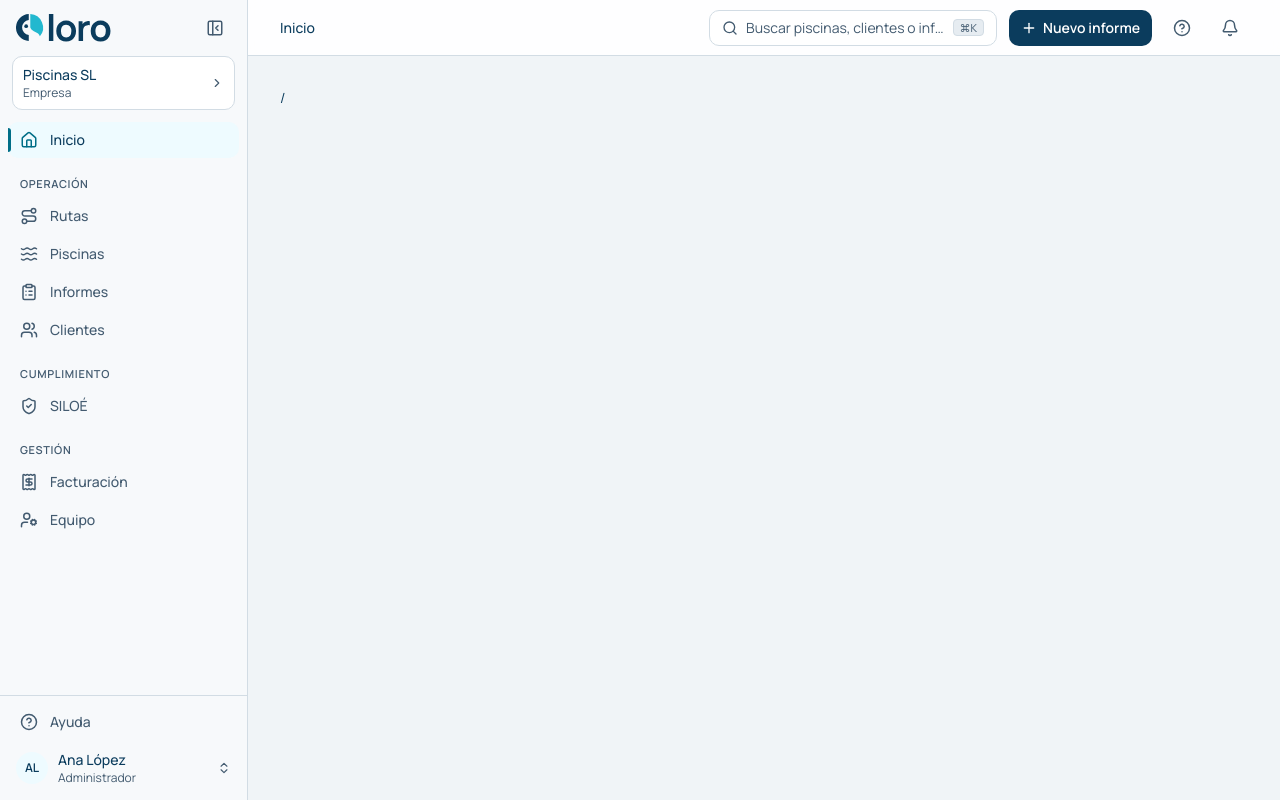
Test: AppShell command palette › opens with ⌘K, filters accent-insensitively, and navigates on Enter
Press k
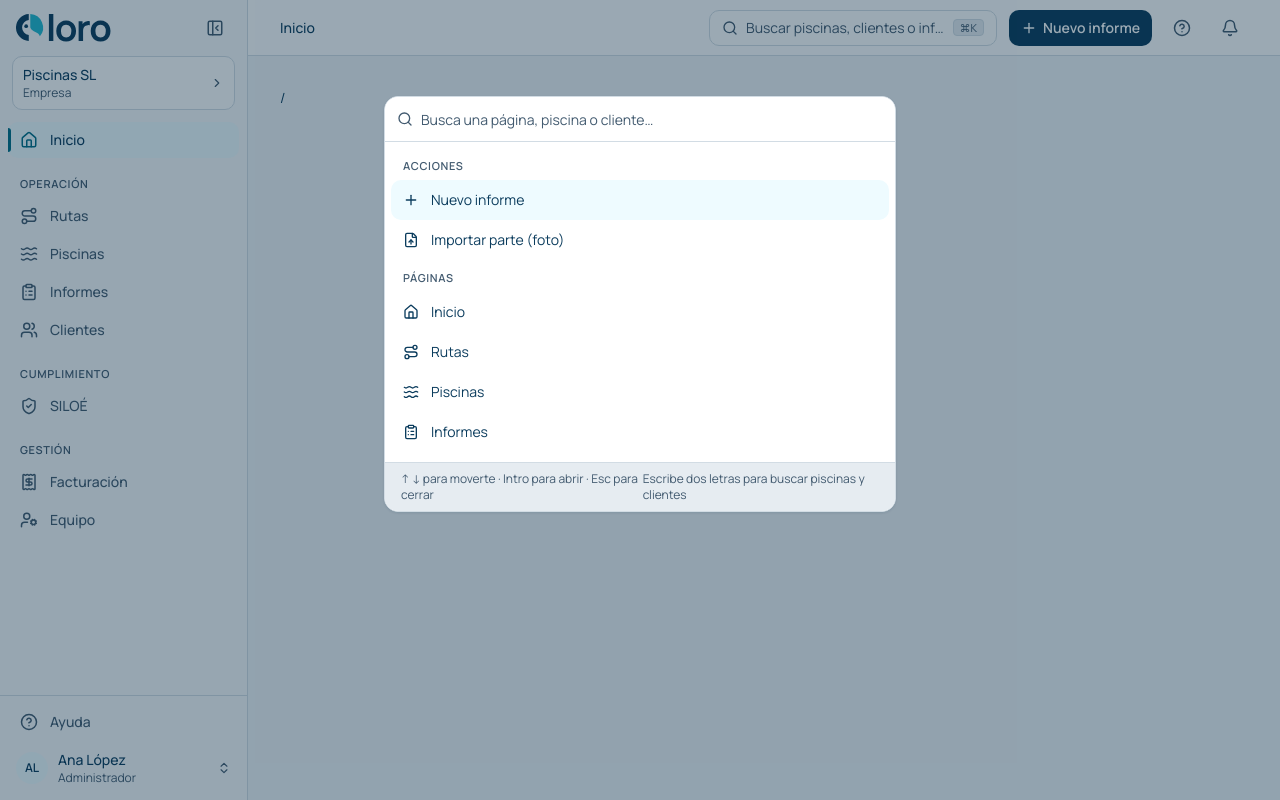
In the dropdown named "Ir a una página": [652, 119] box [421, 97, 883, 141], type "facturacion"
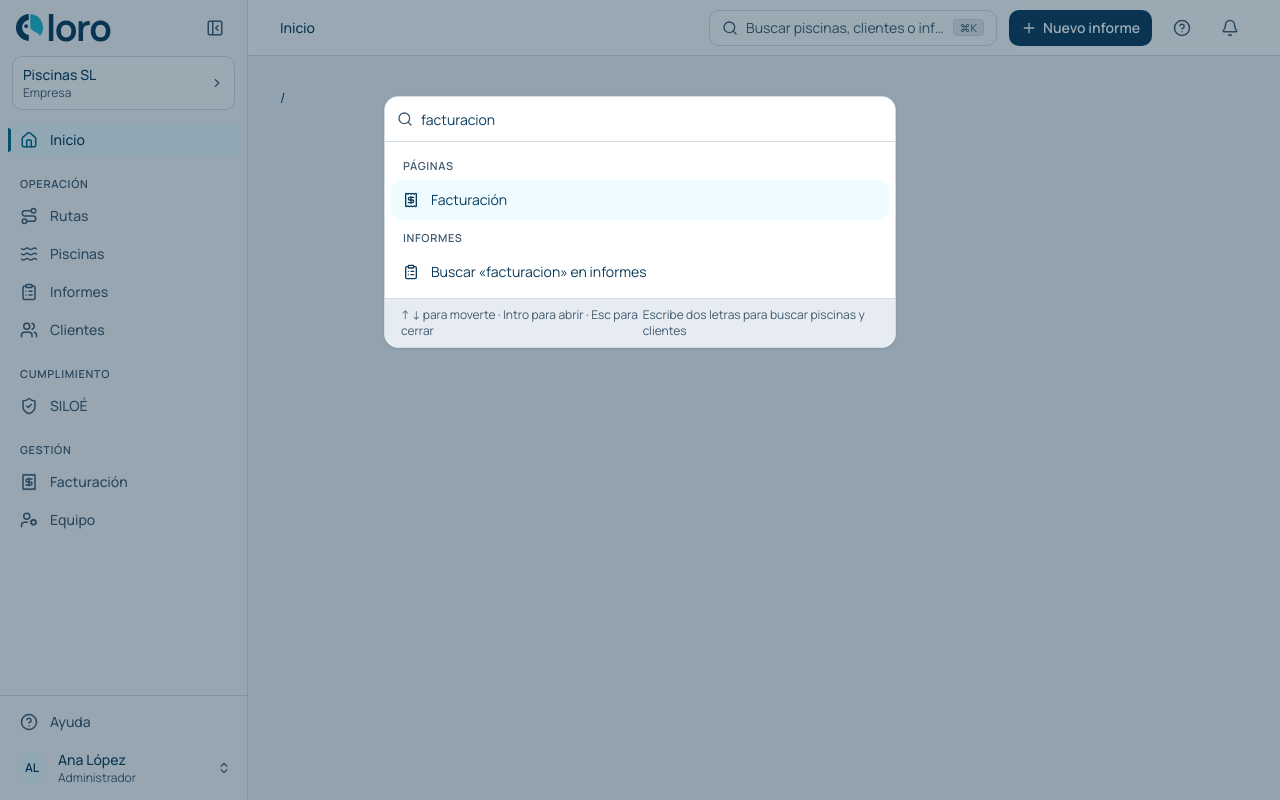
Expected: the text "Facturación" below "Gestión" is shown, [50, 472, 128, 491]
Expected: the text "Buscar «facturacion» en informes" is shown, [431, 262, 647, 281]
Press Enter in the dropdown named "Ir a una página", box [421, 97, 883, 141]
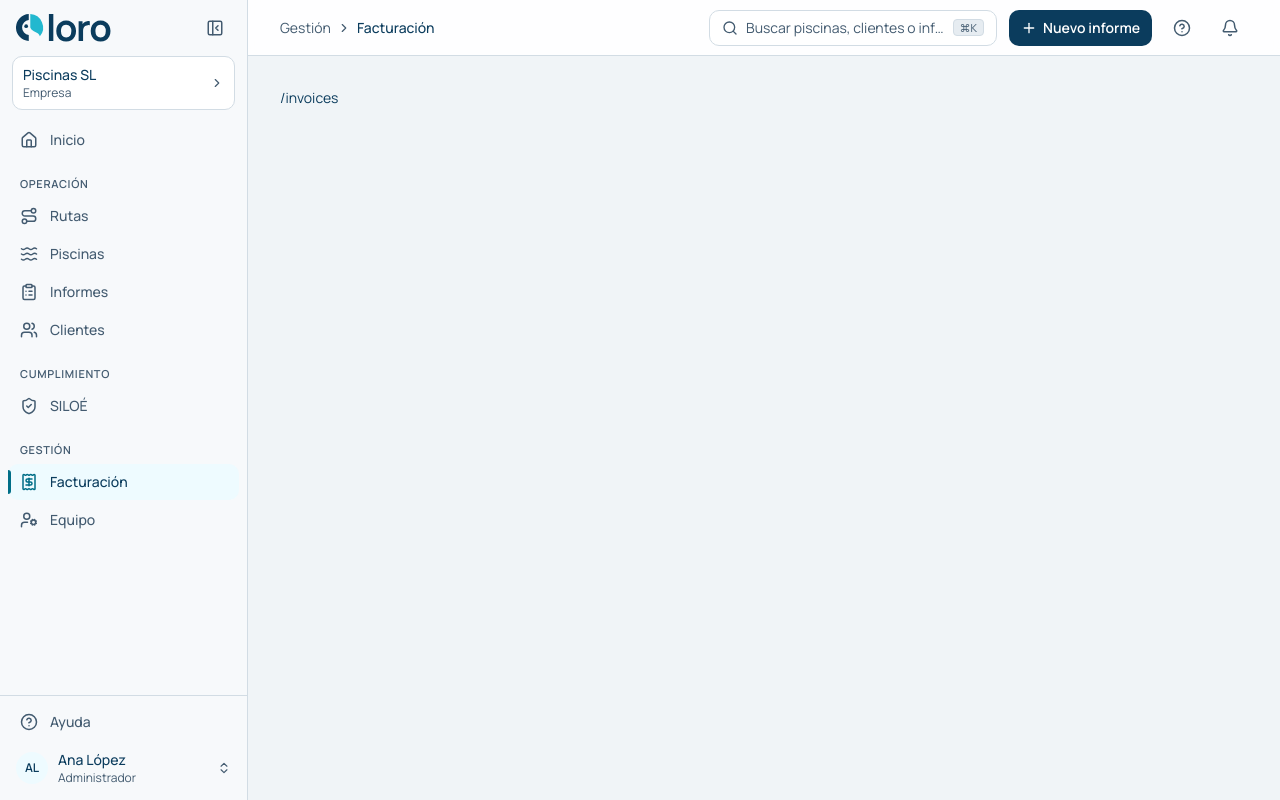
Expected: the text with test id "where" reads "/invoices", [280, 88, 338, 107]
Expected: the dropdown is gone
